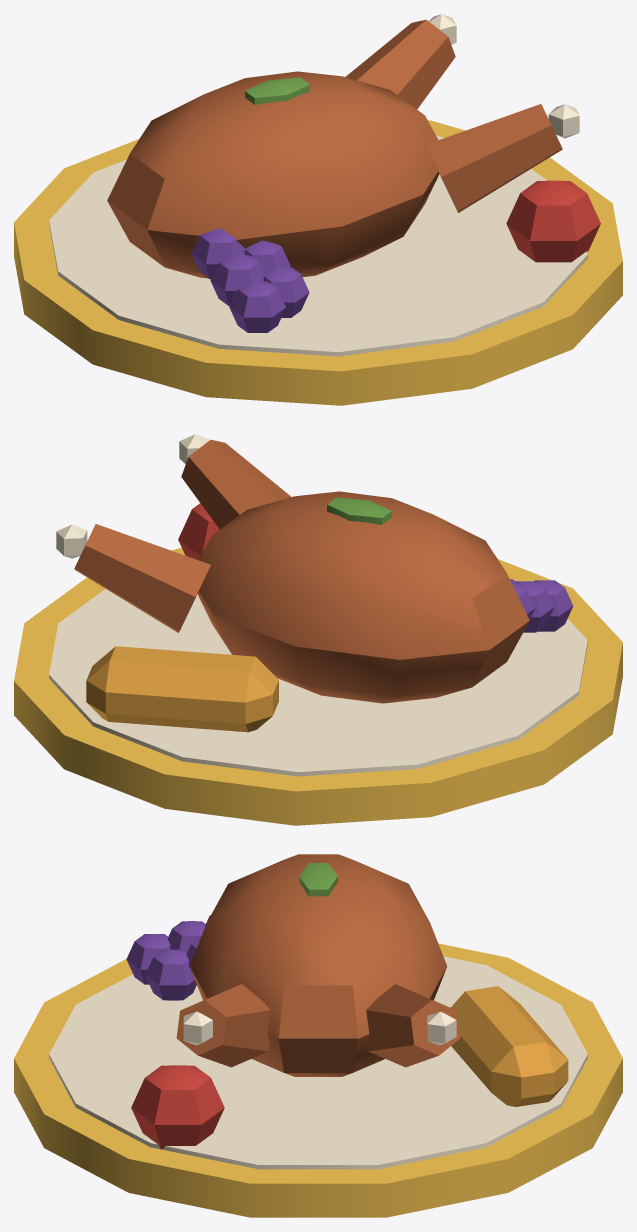
File: PR_Drink_SolenTabagi.fbx
3 views of the same model, one above another, from view 1: azimuth 30°, elevation 25°; view 2: azimuth 150°, elevation 25°; view 3: azimuth 270°, elevation 25° (orthographic).
Visible parts, largest first — view 1: PR_Drink_SolenTabagi; view 2: PR_Drink_SolenTabagi; view 3: PR_Drink_SolenTabagi.
Part boxes in pixels (x1=…): PR_Drink_SolenTabagi: x1=14, y1=14, x2=622, y2=405; PR_Drink_SolenTabagi: x1=14, y1=434, x2=622, y2=825; PR_Drink_SolenTabagi: x1=14, y1=854, x2=622, y2=1217.
Bounding box in the file's own units: 0.2535 × 0.0948 × 0.26.
